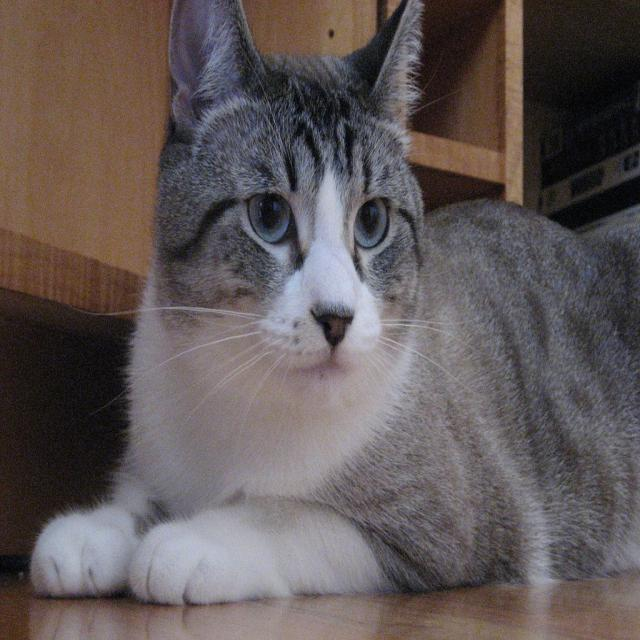cat: (28, 1, 640, 608)
